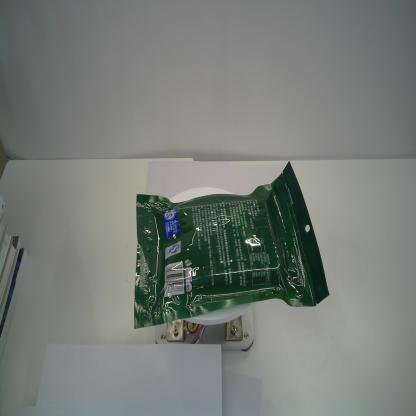Dried Food: (132, 157, 332, 330)
